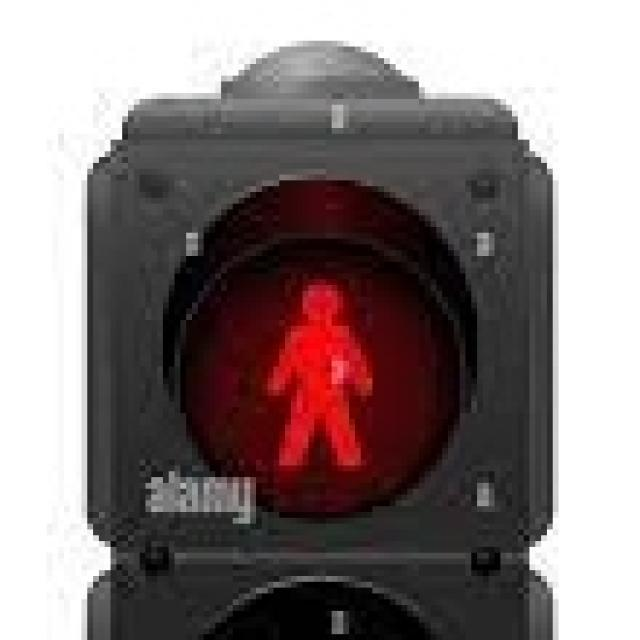red-crossing: (238, 262, 396, 483)
